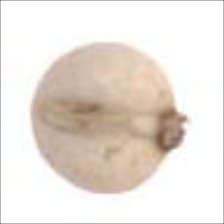L5: (30, 92, 158, 142), (154, 87, 192, 160)
L6: (29, 40, 191, 197)
